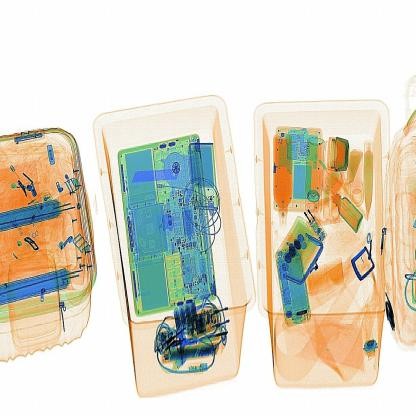pliers: (130, 160, 186, 192)
